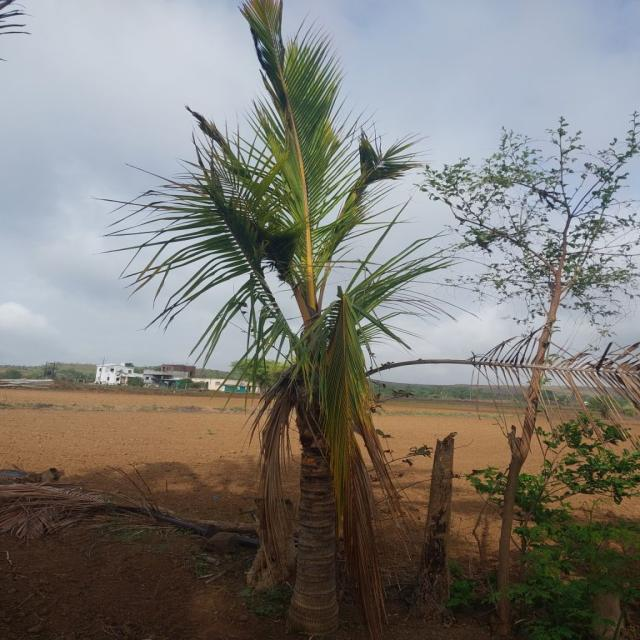bud root dropping: (113, 0, 447, 640)
